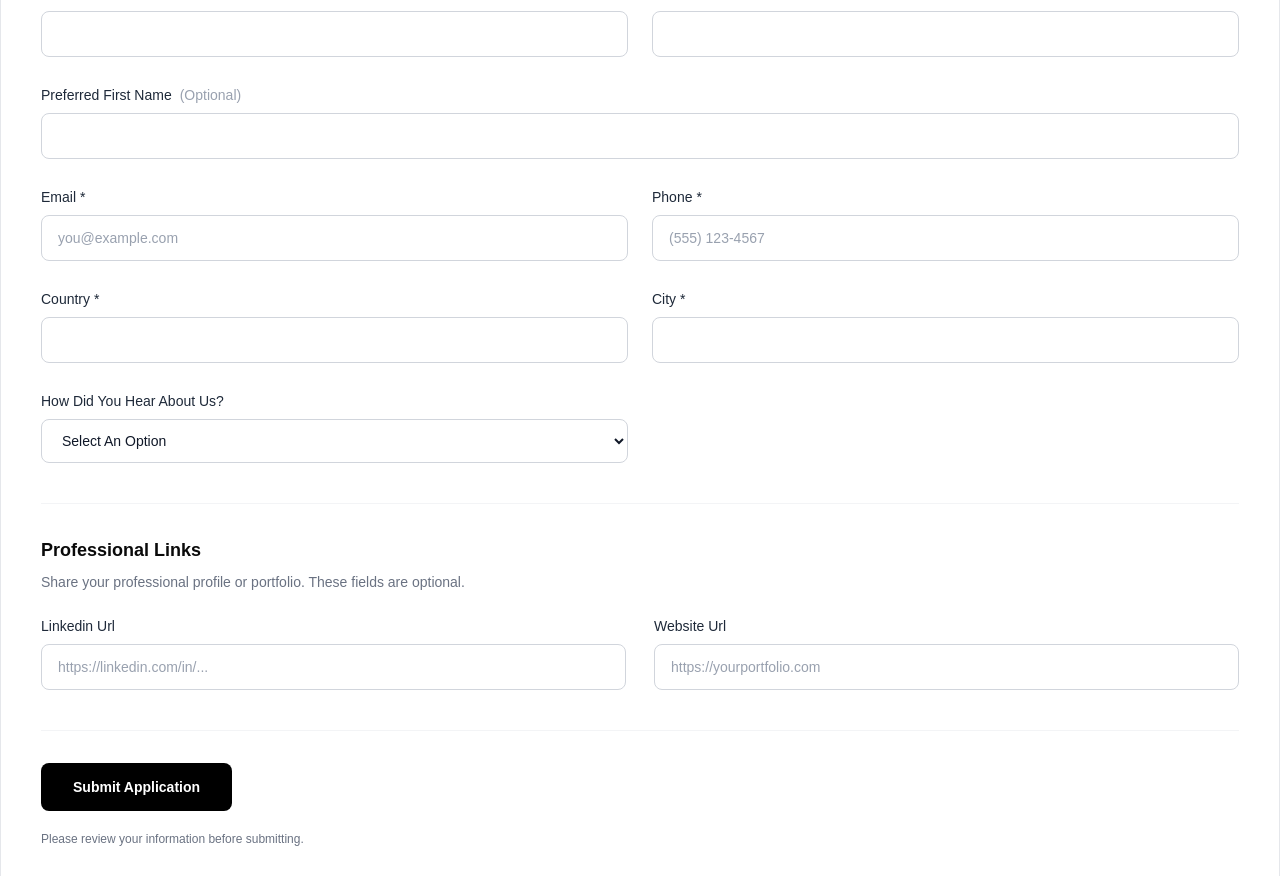
Test: JobApplicationForm › should show validation errors when input fields are empty
The image size is (1280, 876).
(page scrolled)
Click the button "Submit Application" at (136, 787), box top-left (41, 763), bottom-right (232, 811)
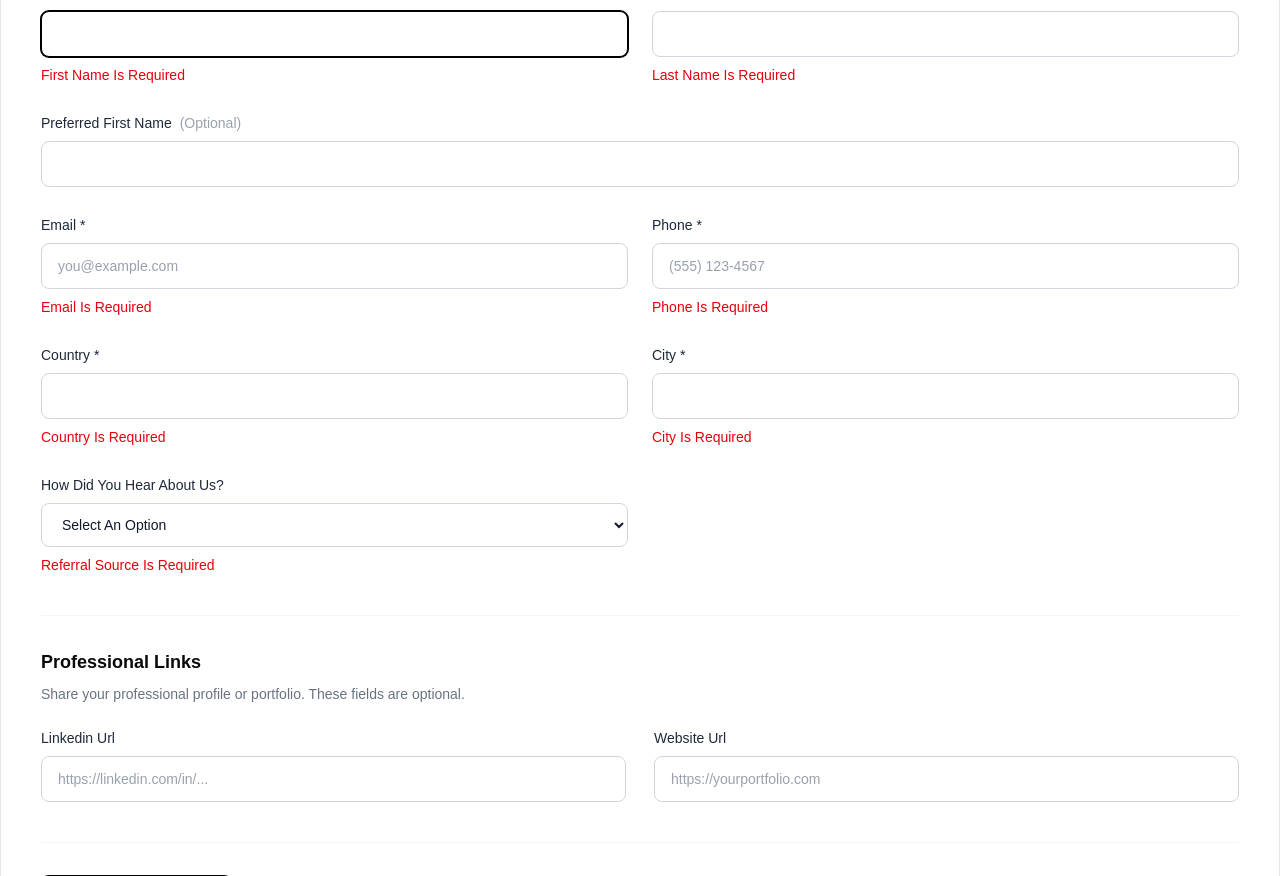
expect the text "First Name Is Required" is shown: met, box top-left (41, 67), bottom-right (185, 83)
expect the text "Last Name Is Required" is shown: met, box top-left (652, 67), bottom-right (795, 83)
expect the text "Email Is Required" is shown: met, box top-left (41, 299), bottom-right (152, 315)
